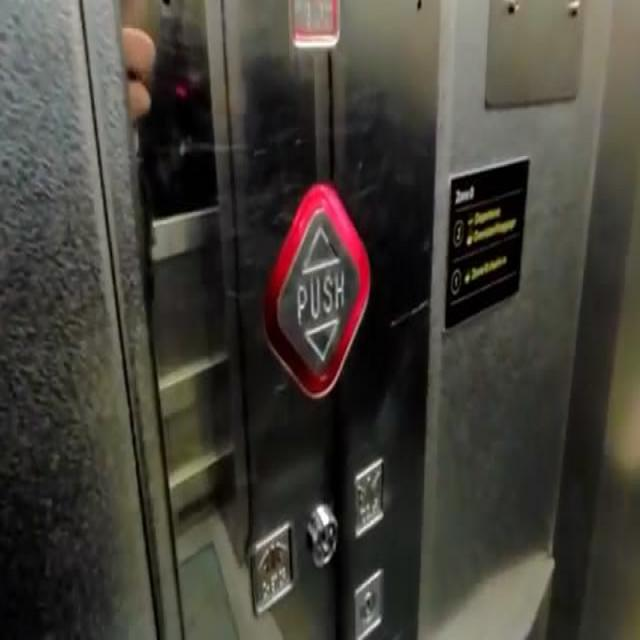close: (348, 448, 388, 545)
keyhole: (348, 562, 388, 638), (304, 500, 339, 569)
open: (243, 516, 296, 624)
text_push: (257, 172, 372, 403)
